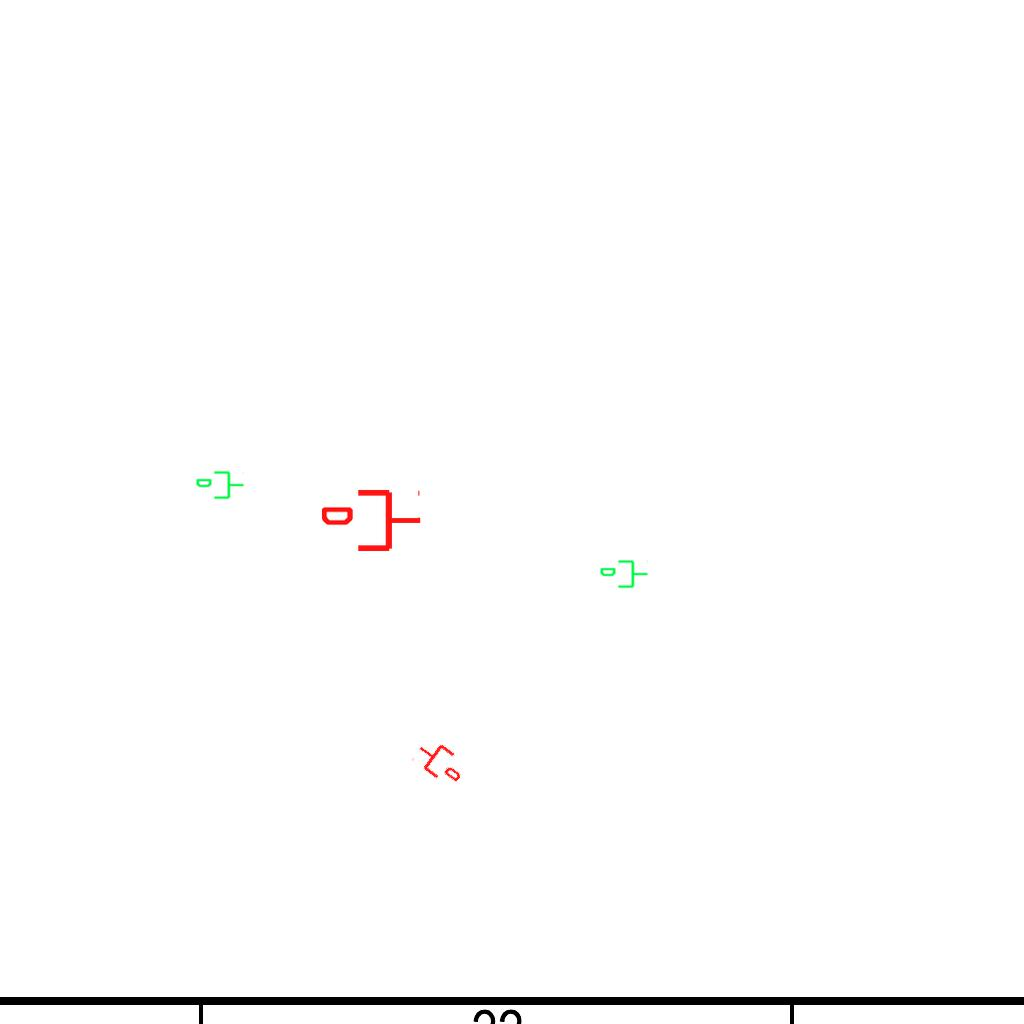Datenanschluss_einfach: (322, 486, 422, 555), (409, 733, 471, 791), (599, 558, 649, 592), (195, 469, 245, 503)
